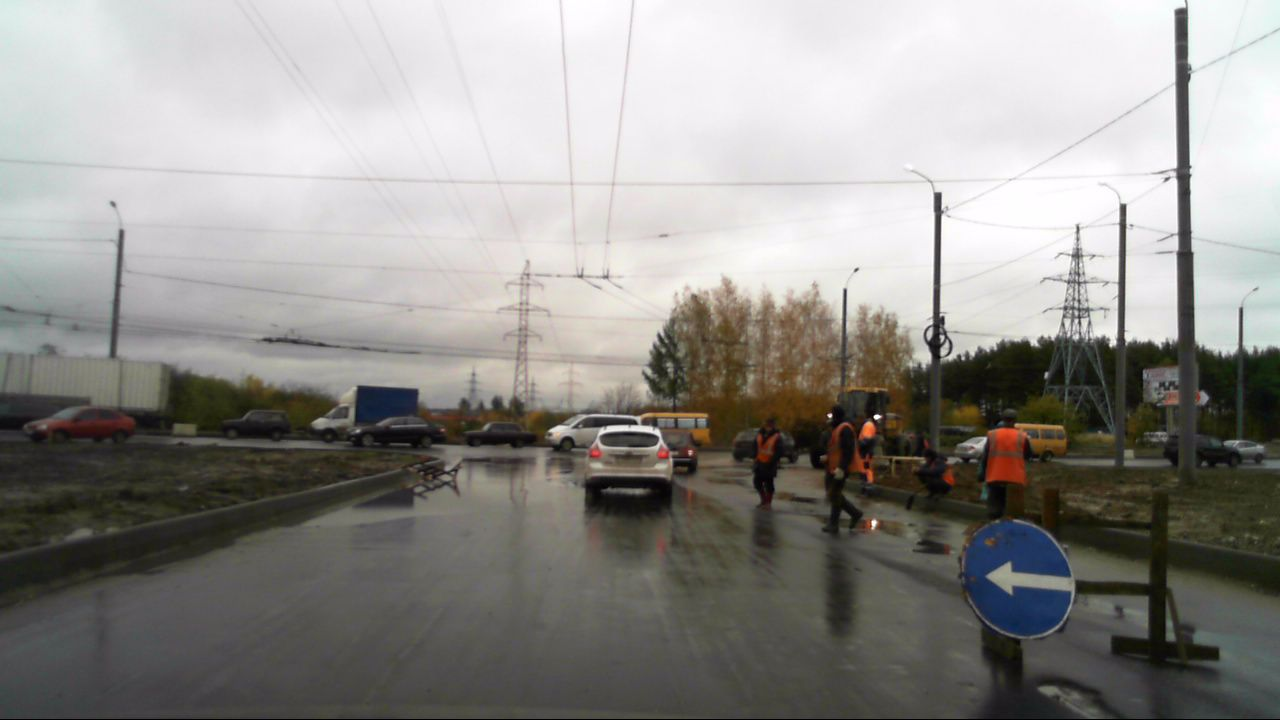Turn Left: (962, 517, 1075, 638)
